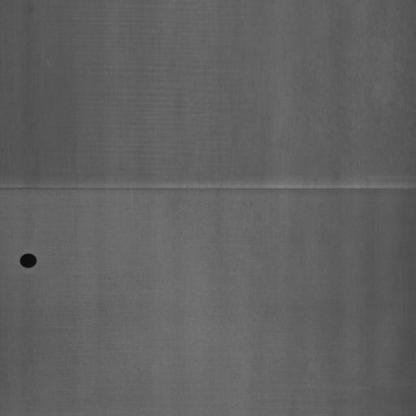punching_hole: (18, 245, 40, 273)
welding_line: (0, 166, 414, 209)
